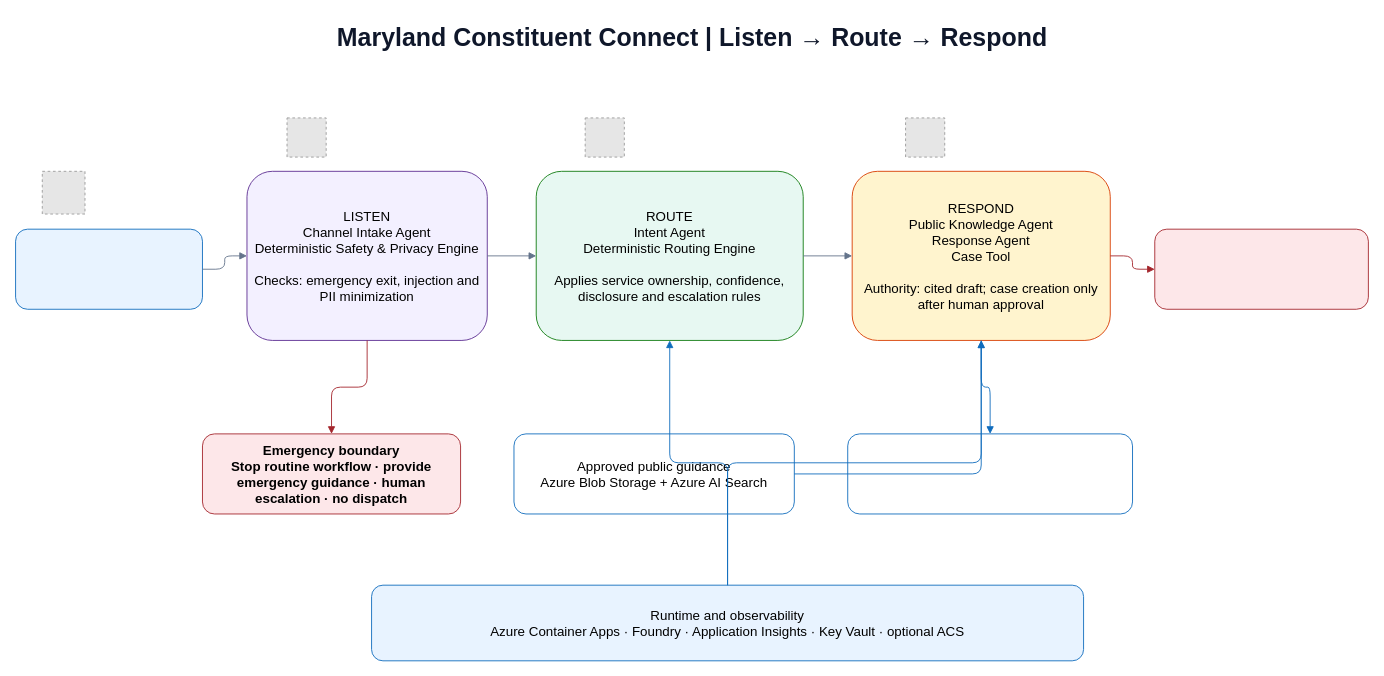
Some shapes in this 1384 by 676 pixel diagram are drawn without their labels. Grey dashed boxes stand in for pictures. Each missing label, with the centre of its shape:
Contact-center human authority Approve · edit · reroute · escalate: [1261,268]
Synthetic cases, approvals and audit history Azure Cosmos DB: [990,473]
Web, chat, email and synthetic voice: [108,268]
